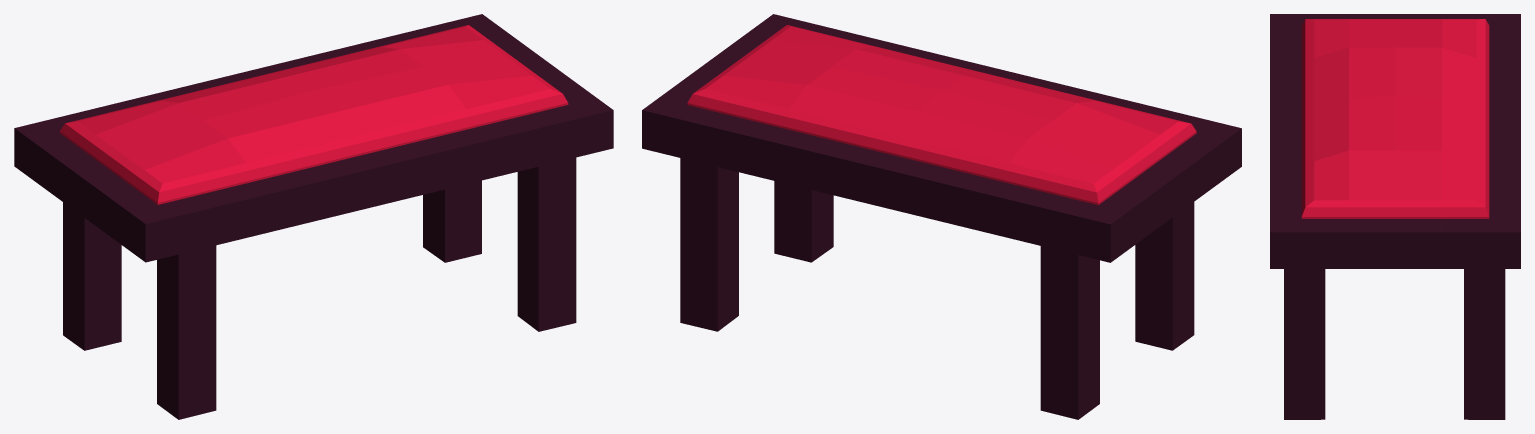
The model's file is Banquito_003.fbx.
3 views of the same model, side by side, from view 1: azimuth 30°, elevation 25°; view 2: azimuth 150°, elevation 25°; view 3: azimuth 270°, elevation 25° (orthographic). The views are drawn at different scales.
Visible parts, largest first — view 1: Chairpiano; view 2: Chairpiano; view 3: Chairpiano.
Part boxes in pixels (bbox=[...]): Chairpiano: bbox=[14, 14, 613, 419]; Chairpiano: bbox=[642, 14, 1241, 419]; Chairpiano: bbox=[1270, 14, 1520, 419].
Size of the model in its own units: 100 by 48.89 by 48.58.
2 materials, 2 textured.
